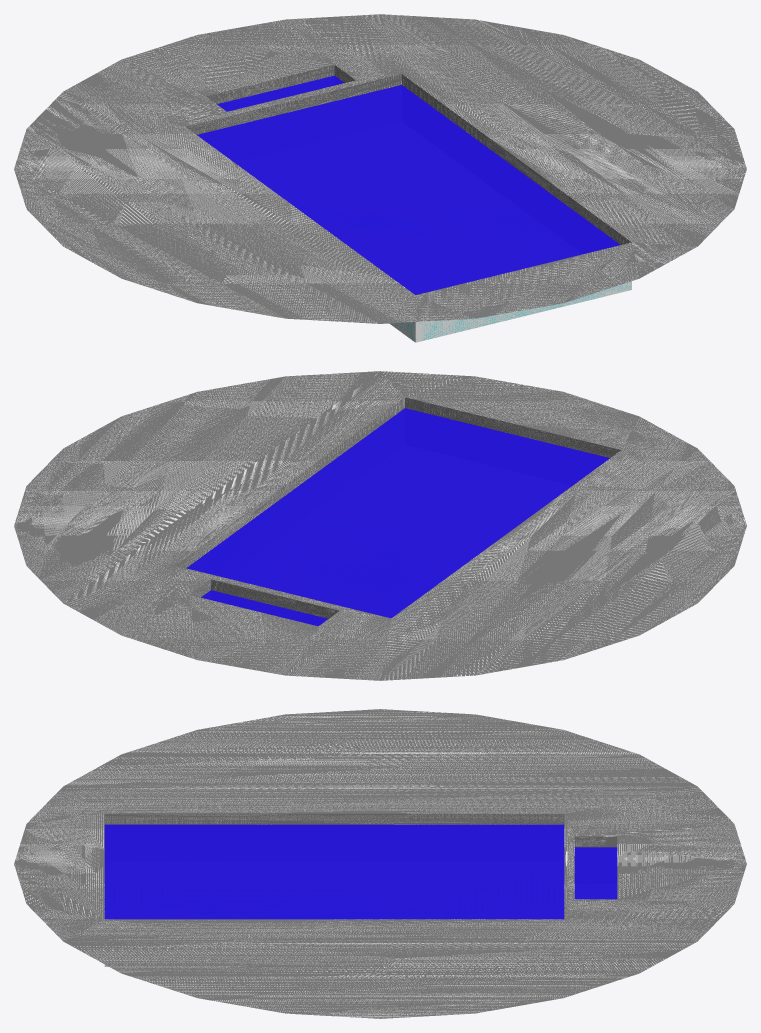
Rendered from original-99.obj.
3 views of the same model, one above another, from view 1: azimuth 30°, elevation 25°; view 2: azimuth 150°, elevation 25°; view 3: azimuth 270°, elevation 25° (orthographic).
Parts seen in each view (by area): view 1: mesh29/mesh29-geometry#mesh29-geometry; view 2: mesh29/mesh29-geometry#mesh29-geometry; view 3: mesh29/mesh29-geometry#mesh29-geometry.
Part boxes in pixels (<box>): mesh29/mesh29-geometry#mesh29-geometry: <box>14,14,746,342</box>; mesh29/mesh29-geometry#mesh29-geometry: <box>14,371,746,680</box>; mesh29/mesh29-geometry#mesh29-geometry: <box>14,709,746,1018</box>.
Bounding box in the file's own units: 0.0126 × 0.0009 × 0.0126.
Materials: 4 (1 with a texture image).
